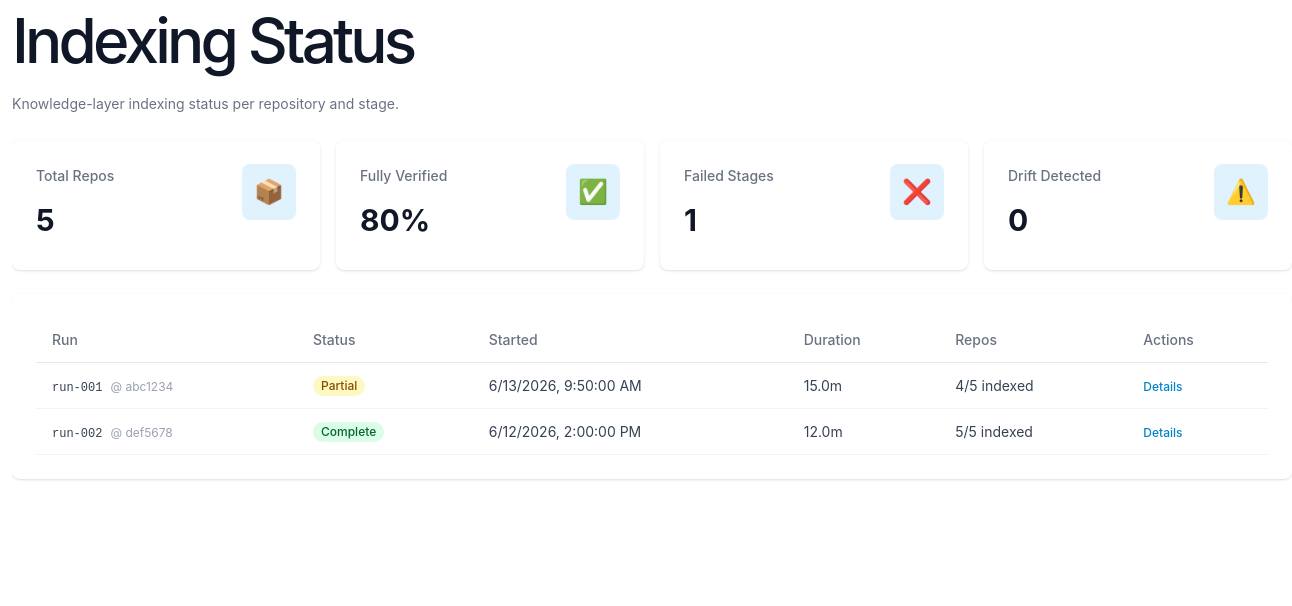
Test case: IndexingStatus Page › shows error details when clicking error button
Expected: the text "Partial" is shown, [313, 376, 365, 396]
Click the 1st button "Details": (1163, 387) [1143, 379, 1182, 395]
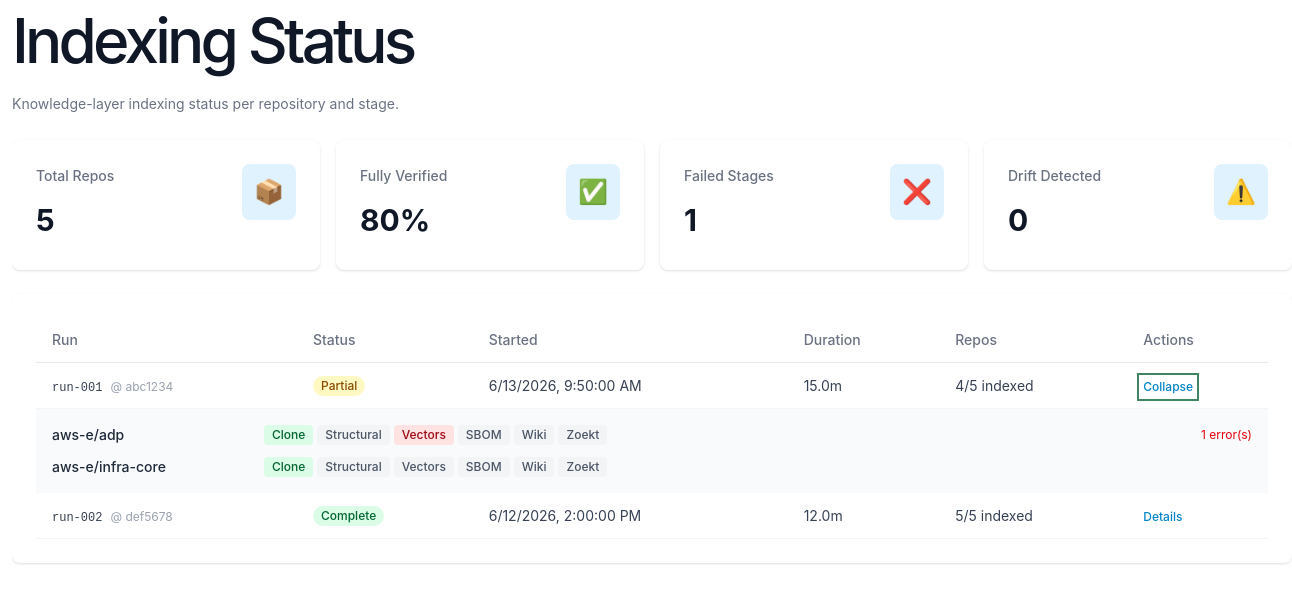
Expected: the button "1 error(s)" is shown
Click the button "1 error(s)": (1226, 435) [1201, 427, 1252, 443]
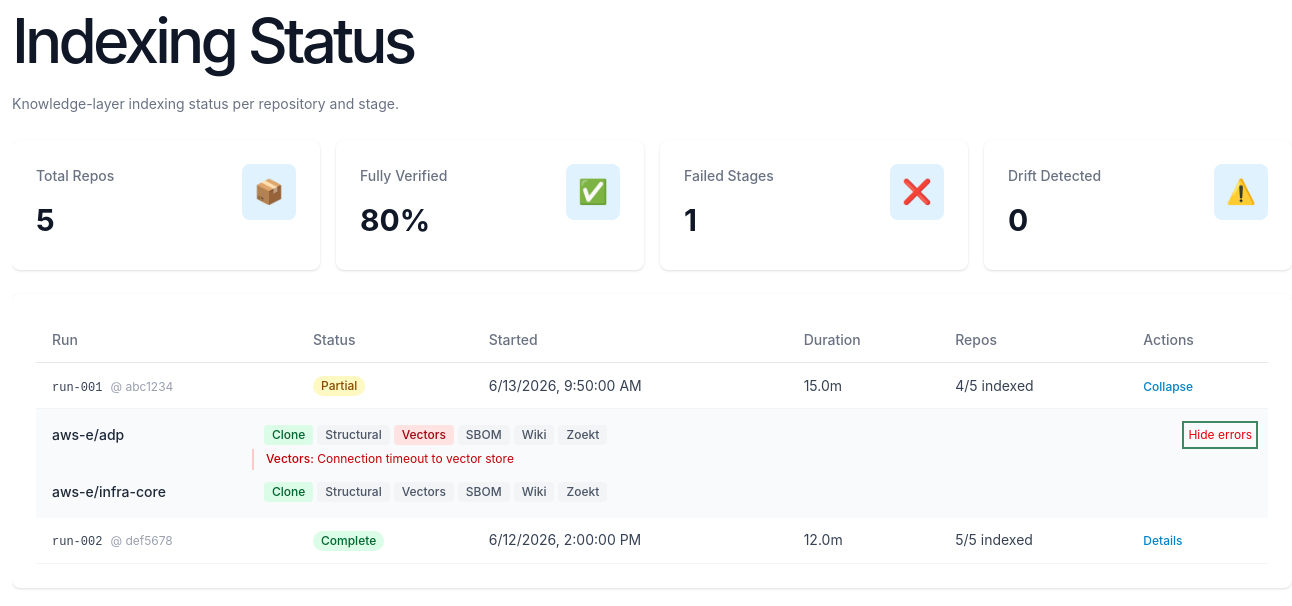
Expected: the text "Vectors: Connection timeout to vector store" is shown, [266, 451, 514, 466]
